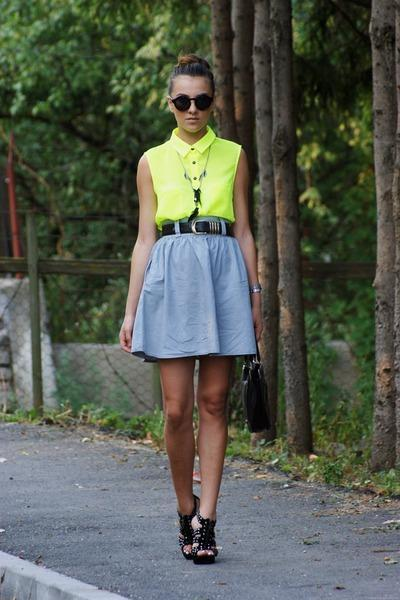bag: (228, 354, 283, 432)
shirt: (139, 132, 245, 219)
shoe: (179, 499, 217, 564)
skirt: (131, 215, 255, 357)
sunglass: (172, 89, 214, 112)
